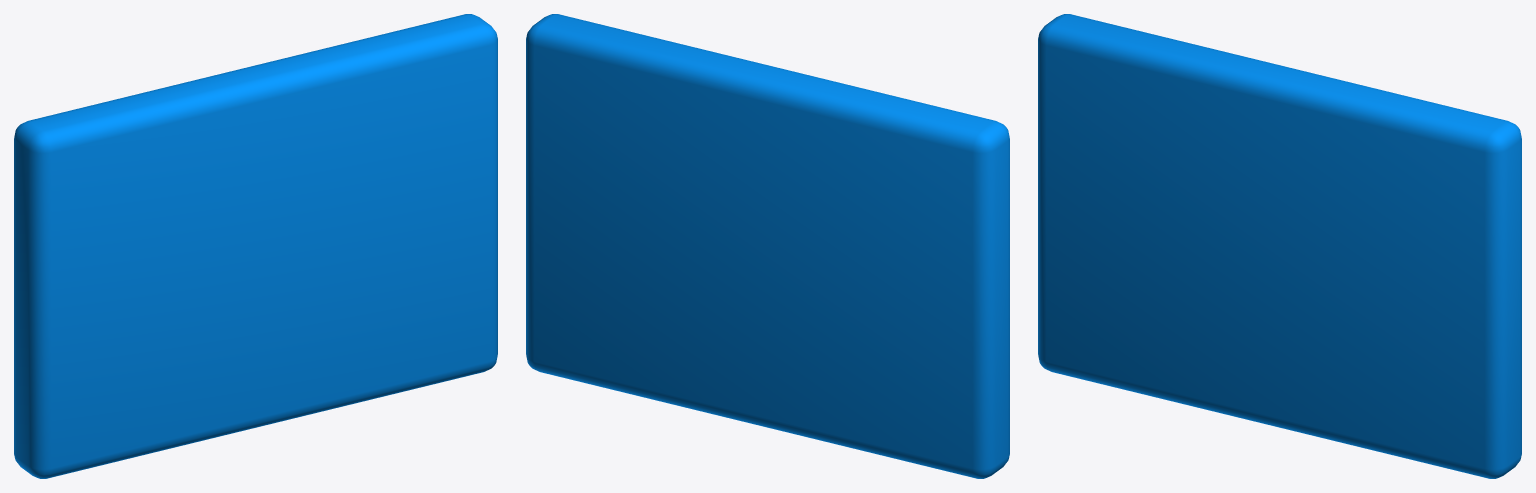
The model's file is taiwan_flag_3d.glb.
3 renders of one model, left to right at view 1: azimuth 30°, elevation 25°; view 2: azimuth 150°, elevation 25°; view 3: azimuth 330°, elevation 25°, orthographic.
Parts seen in each view (by area): view 1: Glass; view 2: Glass; view 3: Glass.
Boxes of the visible parts, left/top/right/bottom form: Glass: left=14, top=14, right=497, bottom=478; Glass: left=526, top=14, right=1009, bottom=478; Glass: left=1038, top=14, right=1521, bottom=478.
Bounding box in the file's own units: 22.55 × 15.99 × 2.42.
3 materials, 3 textured.
